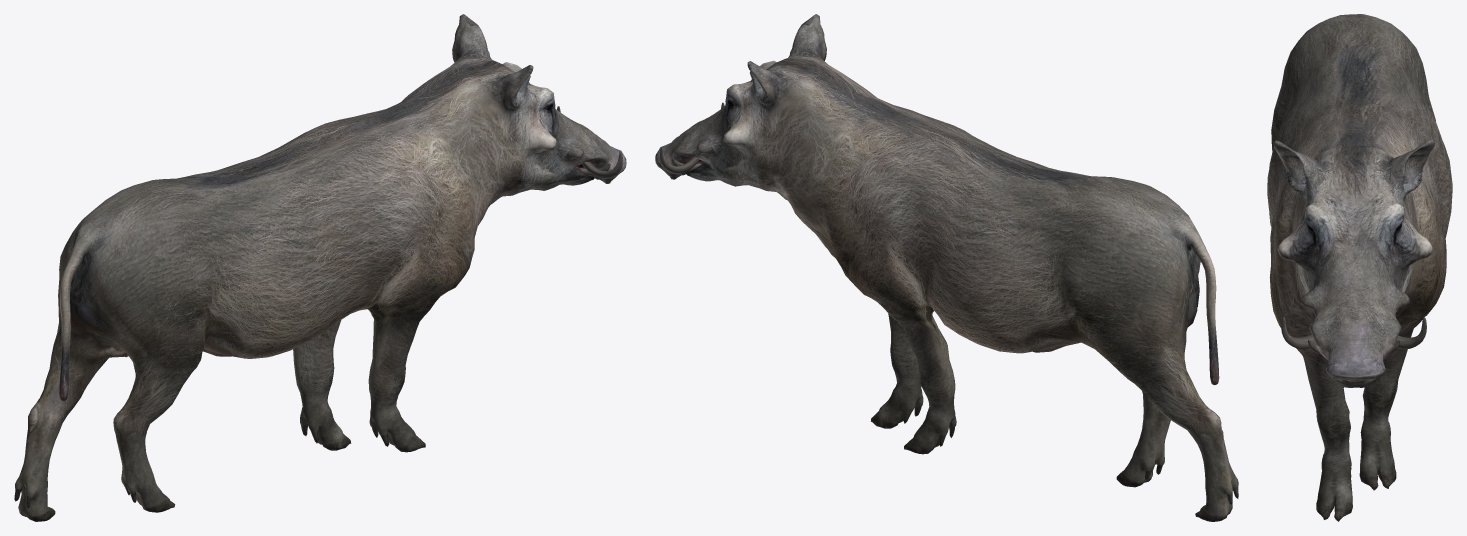
File: javali.glb
3 renders of one model, left to right at view 1: azimuth 30°, elevation 25°; view 2: azimuth 150°, elevation 25°; view 3: azimuth 270°, elevation 25°, orthographic. The views are drawn at different scales.
Visible parts, largest first — view 1: Tusks_LL_applied_clean_M_Warthog_0; view 2: Tusks_LL_applied_clean_M_Warthog_0; view 3: Tusks_LL_applied_clean_M_Warthog_0, Tusks_LL_applied_clean_M_Warthog_Tusks_0.
Part boxes in pixels (x1=…): Tusks_LL_applied_clean_M_Warthog_0: x1=14, y1=14, x2=626, y2=521; Tusks_LL_applied_clean_M_Warthog_0: x1=655, y1=14, x2=1238, y2=521; Tusks_LL_applied_clean_M_Warthog_0: x1=1267, y1=14, x2=1452, y2=521; Tusks_LL_applied_clean_M_Warthog_Tusks_0: x1=1281, y1=317, x2=1426, y2=354.
Size of the model in its own units: 2.05 by 1.23 by 0.4844.
Materials: 2 (2 with a texture image).
